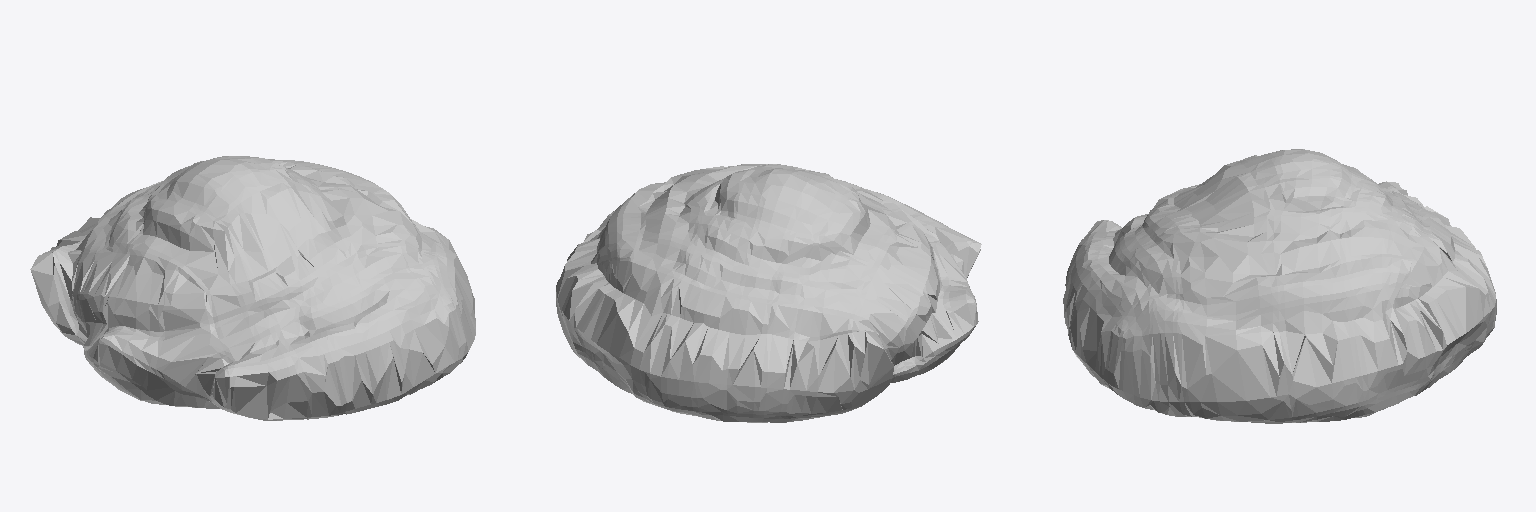
Rendered from pan1.obj.
3 renders of one model, left to right at view 1: azimuth 30°, elevation 25°; view 2: azimuth 150°, elevation 25°; view 3: azimuth 270°, elevation 25°, orthographic.
Parts seen in each view (by area): view 1: pasted__pasted__pasted__polySurface4176 croissant5k35:croissant5; view 2: pasted__pasted__pasted__polySurface4176 croissant5k35:croissant5; view 3: pasted__pasted__pasted__polySurface4176 croissant5k35:croissant5.
Boxes of the visible parts, box(x1,y1,x2,y2) form: pasted__pasted__pasted__polySurface4176 croissant5k35:croissant5: box(30, 156, 475, 420); pasted__pasted__pasted__polySurface4176 croissant5k35:croissant5: box(556, 164, 981, 422); pasted__pasted__pasted__polySurface4176 croissant5k35:croissant5: box(1063, 149, 1496, 423).
Bounding box in the file's own units: 0.173 × 0.0806 × 0.1764.